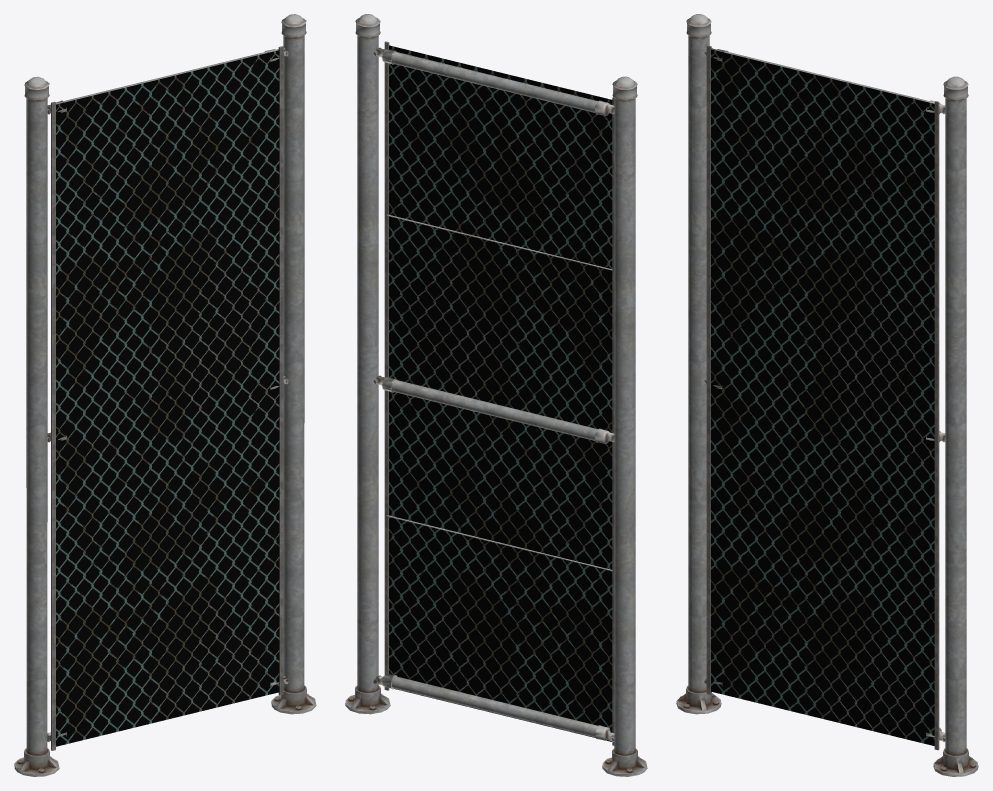
3 views of the same model, side by side, from view 1: azimuth 30°, elevation 25°; view 2: azimuth 150°, elevation 25°; view 3: azimuth 330°, elevation 25° (orthographic).
Visible parts, largest first — view 1: modular_chainlink_fence, modular_chainlink_fence_post.001, modular_chainlink_fence_post.002; view 2: modular_chainlink_fence, modular_chainlink_fence_post.001, modular_chainlink_fence_post.002; view 3: modular_chainlink_fence, modular_chainlink_fence_post.002, modular_chainlink_fence_post.001.
Part boxes in pixels (x1=…): modular_chainlink_fence: x1=47, y1=46, x2=288, y2=750; modular_chainlink_fence_post.001: x1=14, y1=76, x2=59, y2=776; modular_chainlink_fence_post.002: x1=271, y1=14, x2=316, y2=714; modular_chainlink_fence: x1=372, y1=41, x2=614, y2=745; modular_chainlink_fence_post.001: x1=602, y1=76, x2=647, y2=776; modular_chainlink_fence_post.002: x1=345, y1=14, x2=390, y2=714; modular_chainlink_fence: x1=704, y1=45, x2=945, y2=750; modular_chainlink_fence_post.002: x1=933, y1=76, x2=978, y2=776; modular_chainlink_fence_post.001: x1=676, y1=14, x2=721, y2=714.
Bounding box in the file's own units: 1.13 × 2.52 × 0.1496.
Materials: 2 (2 with a texture image).
